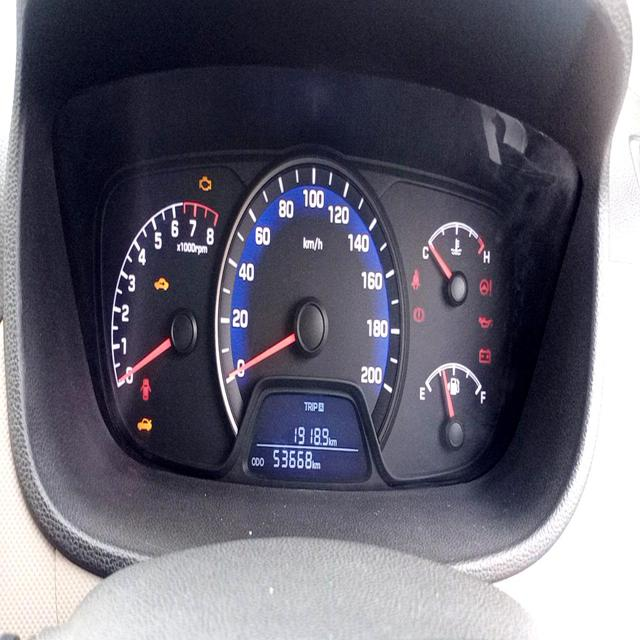odometer: (271, 445, 313, 472)
